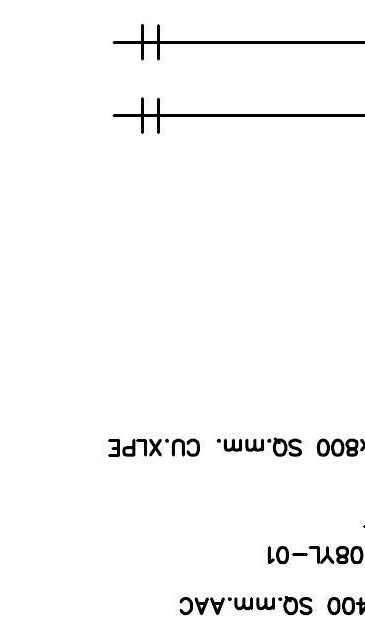115_buffer: (141, 97, 160, 134), (141, 24, 160, 61)
